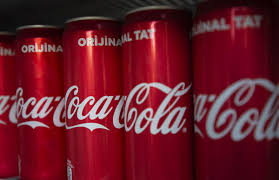can: (189, 2, 274, 180), (126, 0, 189, 180), (67, 7, 122, 180), (11, 22, 65, 177)
